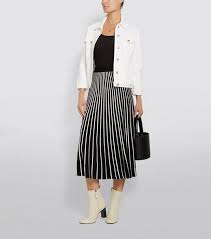C_skirt: (71, 67, 144, 186)
